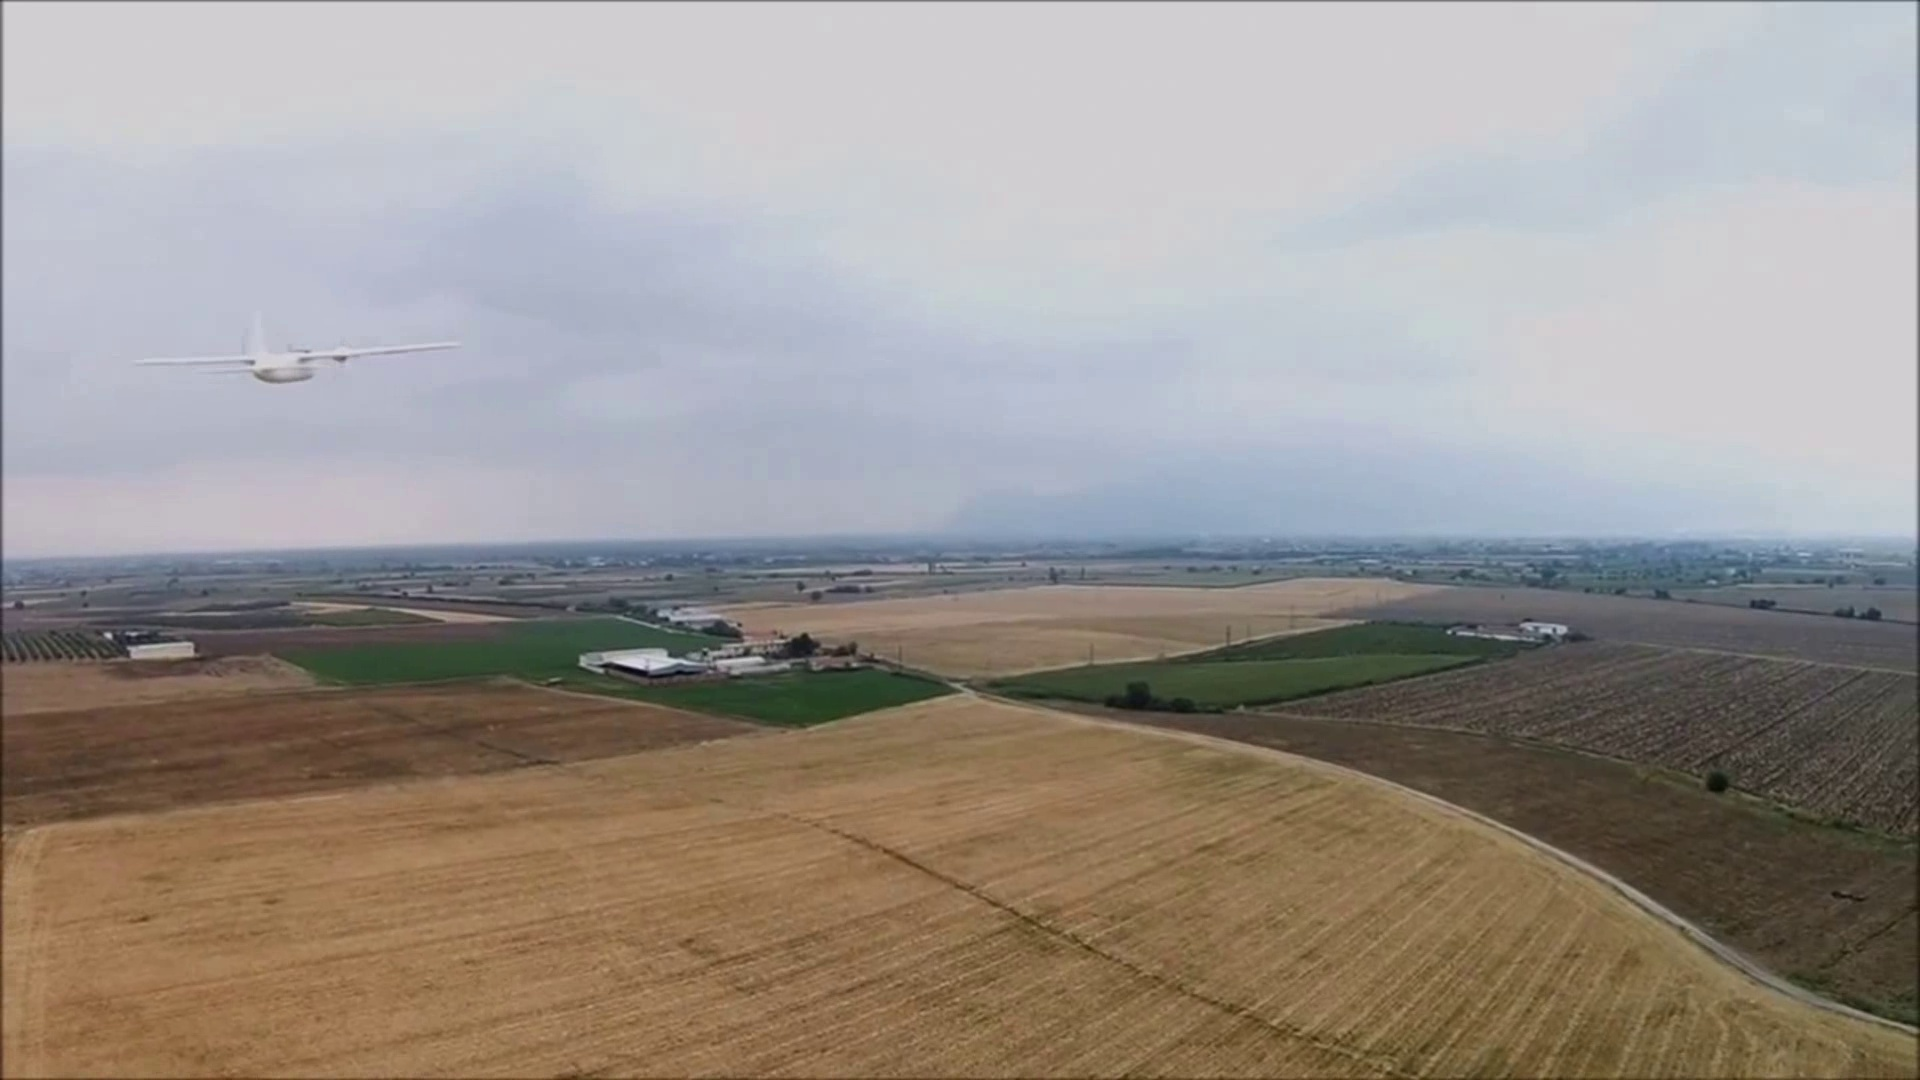airplane: (131, 313, 462, 382)
